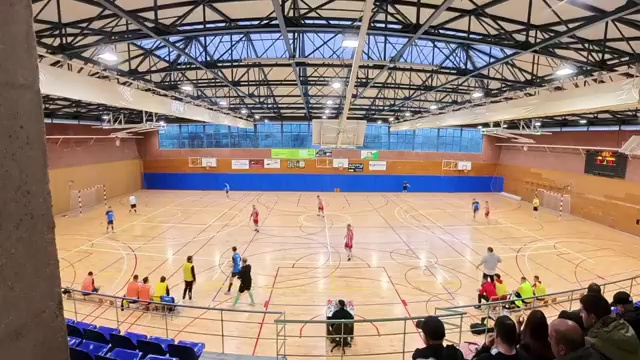players blue shirt: (228, 246, 241, 292), (106, 209, 113, 229), (472, 199, 479, 218), (225, 183, 229, 196)
players red shirt: (344, 224, 354, 260), (250, 205, 259, 232), (317, 195, 323, 213), (485, 201, 489, 218)
